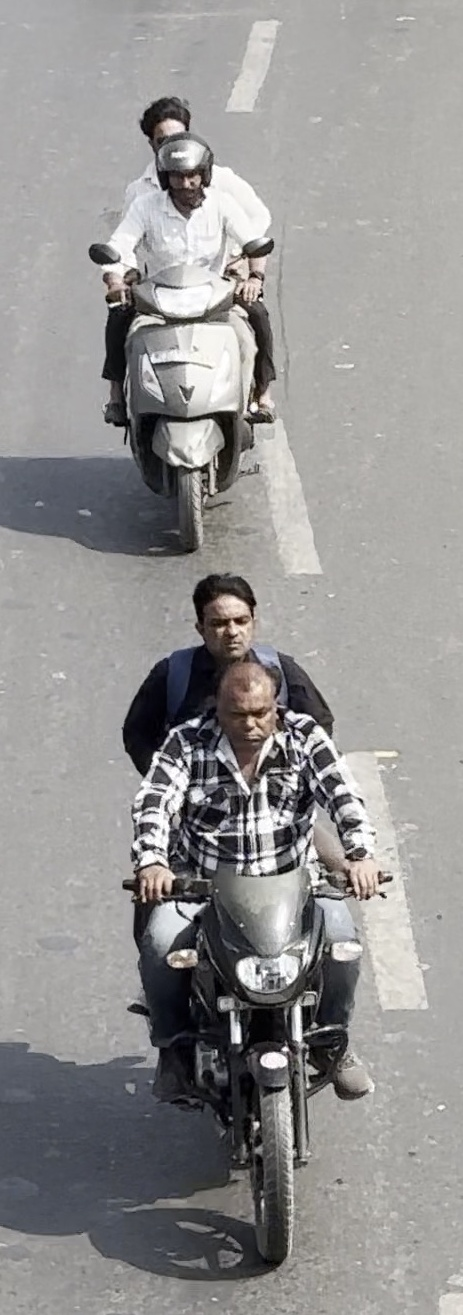BikeWithRider: (77, 84, 292, 559)
NoHelmet: (100, 559, 402, 1276), (207, 656, 290, 760), (182, 568, 269, 662), (145, 131, 225, 214), (131, 91, 201, 163)
